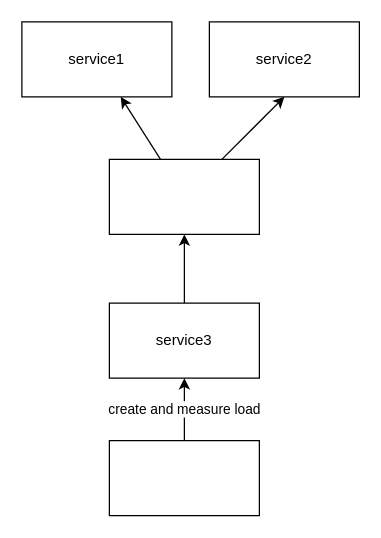
Some shapes in this 381 by 538 pixel diagram are drawn without their labels. Each missing label, with the centre of its shape:
"locust" goes at [183,477].
"nginx (ssl breakdown and proxy, as if gateway)" goes at [183,196].
